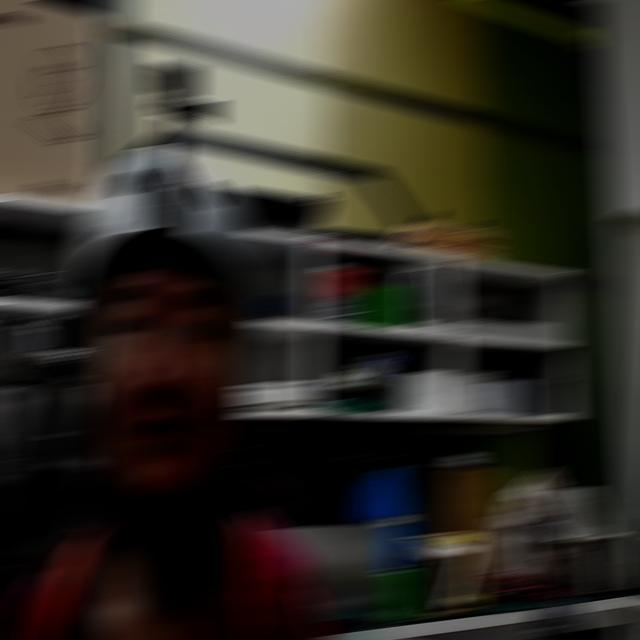With Helmet: (45, 38, 289, 549)
